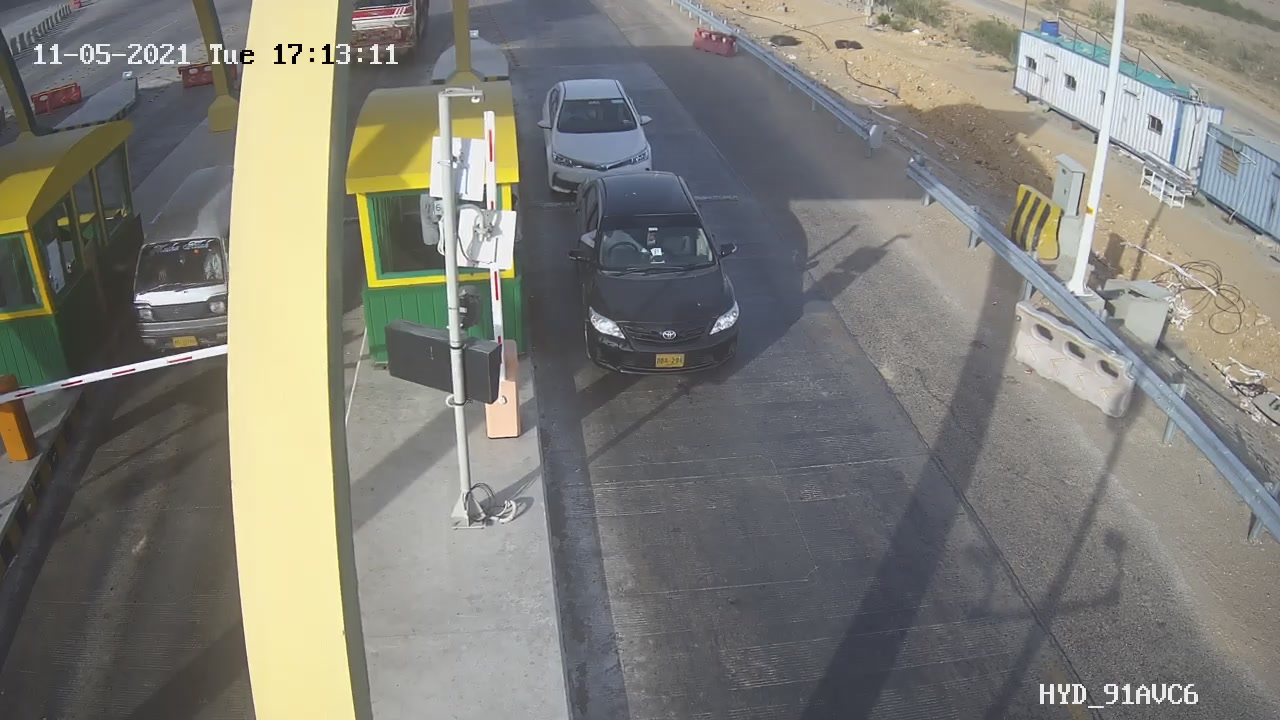F1: (550, 159, 763, 399), (524, 65, 673, 213)
